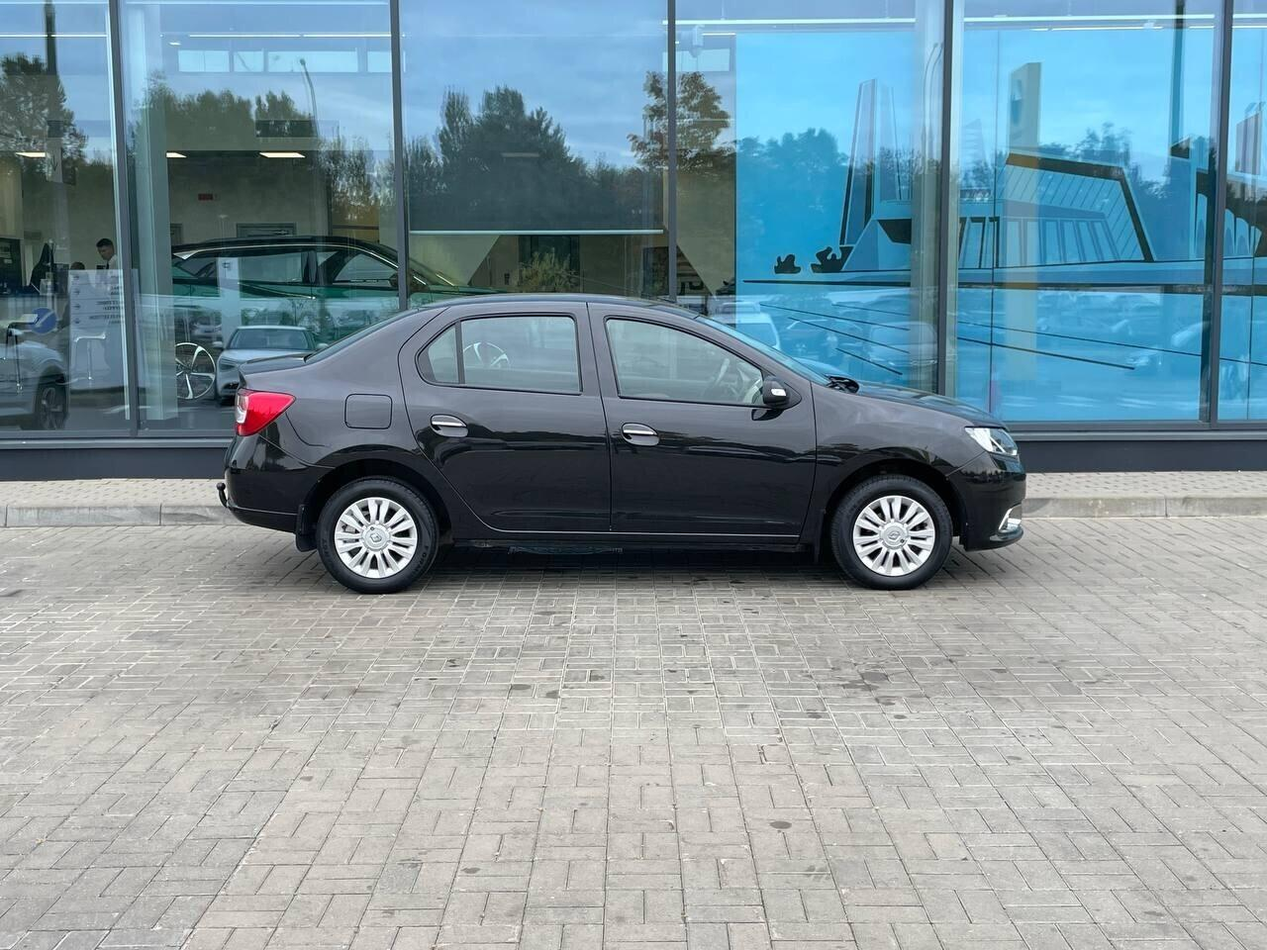Logan_2013-2018: (221, 283, 1033, 593)
